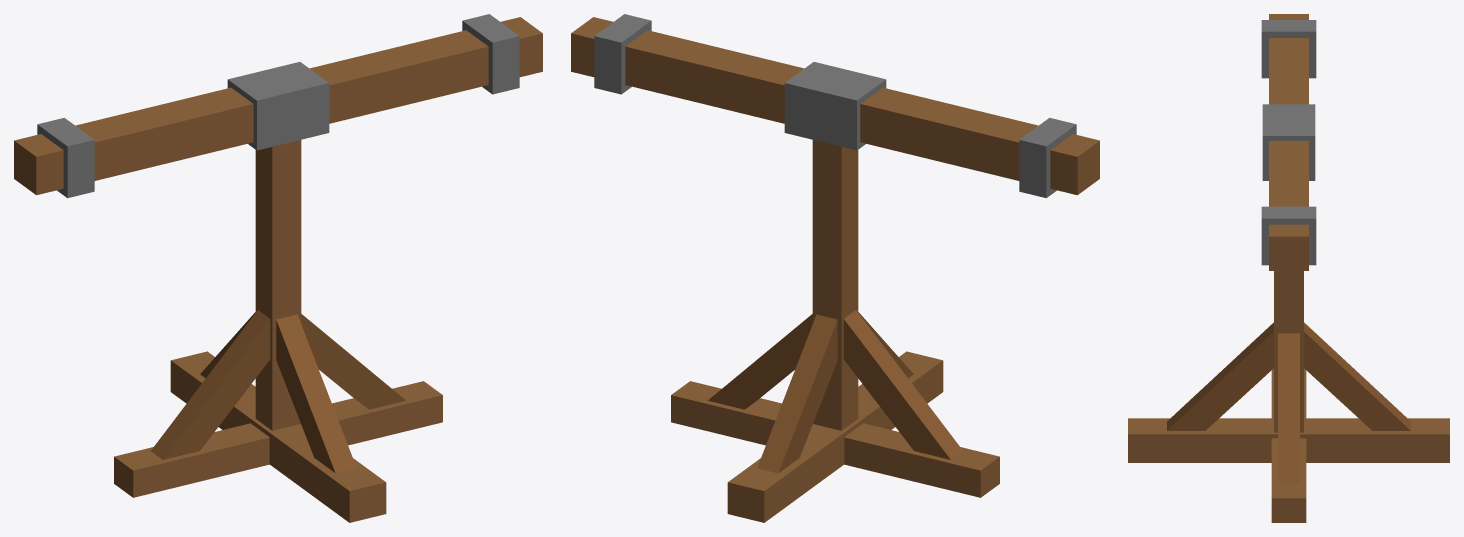
Rendered from LPCP_Hanging03.fbx.
3 views of the same model, side by side, from view 1: azimuth 30°, elevation 25°; view 2: azimuth 150°, elevation 25°; view 3: azimuth 270°, elevation 25° (orthographic). The views are drawn at different scales.
Parts seen in each view (by area): view 1: LPCP_Hanging03; view 2: LPCP_Hanging03; view 3: LPCP_Hanging03.
Boxes of the visible parts, box(x1,y1,x2,y2) form: LPCP_Hanging03: box(14, 14, 542, 522); LPCP_Hanging03: box(571, 14, 1099, 522); LPCP_Hanging03: box(1128, 14, 1449, 522).
Bounding box in the file's own units: 8.69 × 6.12 × 5.31.
